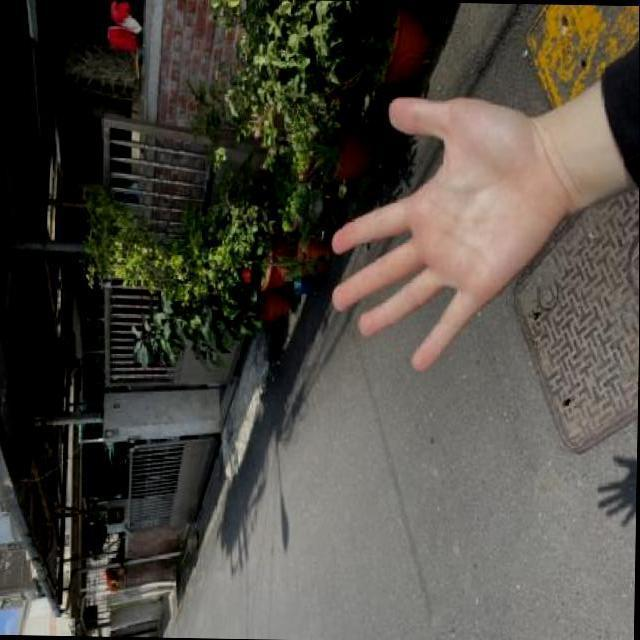hand: (318, 78, 579, 384)
